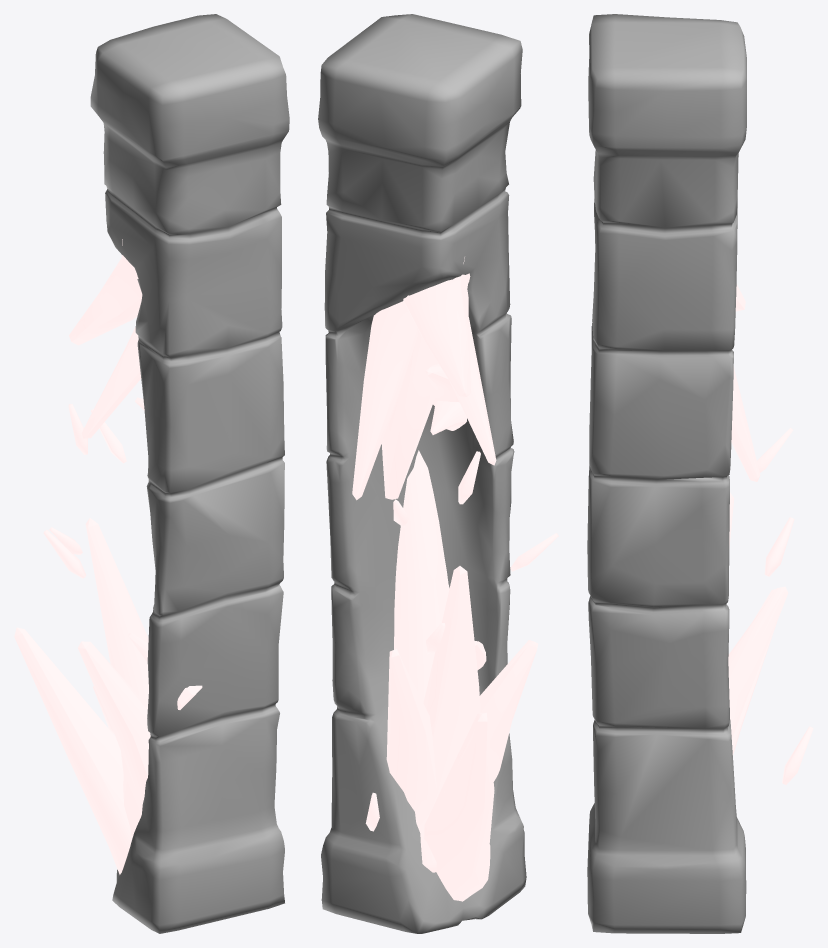
File: bloodstone_impacted_pillar.glb
The picture shows the model from 3 angles, left to right: view 1: azimuth 30°, elevation 25°; view 2: azimuth 150°, elevation 25°; view 3: azimuth 270°, elevation 25°; orthographic projection. The views are drawn at different scales.
Visible parts, largest first — view 1: ColumnMultires, Bloodstone, Bloodstone.004, Bloodstone.002, Bloodstone.007, Bloodstone.005, BloodstoneSmall, Bloodstone.011; view 2: ColumnMultires, Bloodstone.003, Bloodstone, Bloodstone.004, Bloodstone.006, Bloodstone.001, Bloodstone.007, Bloodstone.008, Bloodstone.002, Bloodstone.005, Bloodstone.009, Bloodstone.010 (+2 smaller); view 3: ColumnMultires, Bloodstone.001, Bloodstone.006, BloodstoneSmall, BloodstoneSmall.004, Bloodstone.
Part boxes in pixels (box(x1,y1,x2,y2)): ColumnMultires: box(90, 14, 289, 933); Bloodstone: box(14, 627, 132, 874); Bloodstone.004: box(85, 518, 148, 836); Bloodstone.002: box(78, 641, 150, 803); Bloodstone.007: box(69, 239, 142, 345); Bloodstone.005: box(81, 327, 141, 438); BloodstoneSmall: box(43, 530, 86, 578); Bloodstone.011: box(128, 633, 202, 709); ColumnMultires: box(318, 14, 526, 933); Bloodstone.003: box(394, 450, 449, 872); Bloodstone: box(424, 712, 494, 901); Bloodstone.004: box(415, 566, 480, 832); Bloodstone.006: box(352, 301, 417, 500); Bloodstone.001: box(386, 649, 436, 811); Bloodstone.007: box(403, 257, 470, 396); Bloodstone.008: box(381, 328, 438, 499); Bloodstone.002: box(479, 640, 538, 781); Bloodstone.005: box(449, 317, 496, 465); Bloodstone.009: box(430, 401, 466, 434); Bloodstone.010: box(425, 364, 459, 405); ColumnMultires: box(587, 14, 746, 933); Bloodstone.001: box(728, 586, 788, 739); Bloodstone.006: box(731, 366, 760, 481); BloodstoneSmall: box(764, 517, 794, 576); BloodstoneSmall.004: box(782, 726, 813, 784); Bloodstone: box(732, 589, 776, 754).
Size of the model in its own units: 0.7708 by 2.99 by 0.7133.
